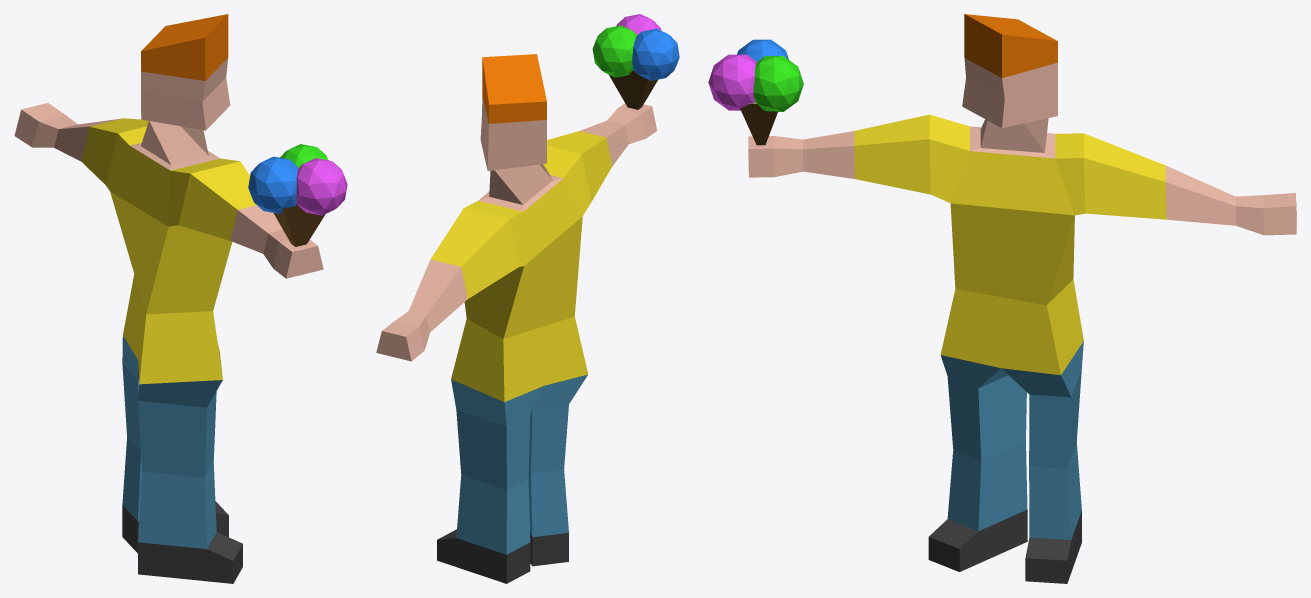
File: cinno.glb
3 renders of one model, left to right at view 1: azimuth 30°, elevation 25°; view 2: azimuth 150°, elevation 25°; view 3: azimuth 270°, elevation 25°, orthographic. The views are drawn at different scales.
Parts seen in each view (by area): view 1: Cube; view 2: Cube; view 3: Cube.
Boxes of the visible parts, box(x1,y1,x2,y2) form: Cube: box(14, 14, 347, 583); Cube: box(376, 14, 679, 583); Cube: box(708, 14, 1296, 583).
Size of the model in its own units: 2.26 by 9.6 by 9.47.
1 material, 1 textured.
